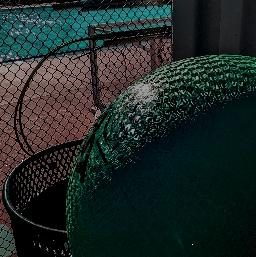algae: (73, 61, 256, 257)
